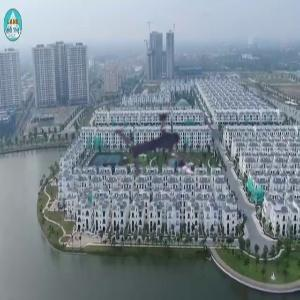drone: (115, 92, 214, 191)
